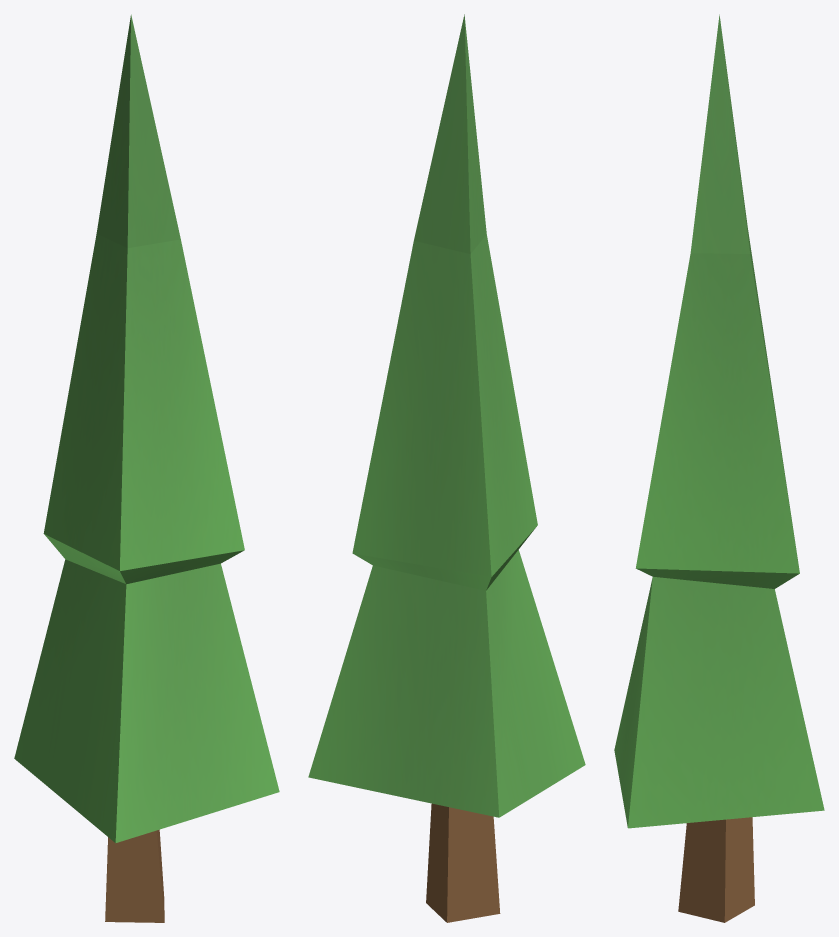
The model's file is Fir_Tree_s_07_LOD.fbx.
3 views of the same model, side by side, from view 1: azimuth 30°, elevation 25°; view 2: azimuth 150°, elevation 25°; view 3: azimuth 270°, elevation 25° (orthographic).
Parts seen in each view (by area): view 1: Fir_Tree_s_07_LOD0; view 2: Fir_Tree_s_07_LOD0; view 3: Fir_Tree_s_07_LOD0.
Part boxes in pixels (x1=…): Fir_Tree_s_07_LOD0: x1=14, y1=14, x2=279, y2=922; Fir_Tree_s_07_LOD0: x1=308, y1=14, x2=585, y2=922; Fir_Tree_s_07_LOD0: x1=614, y1=14, x2=824, y2=922.
Size of what is drawn, in the model's own units: 33.97 by 162 by 34.71.
